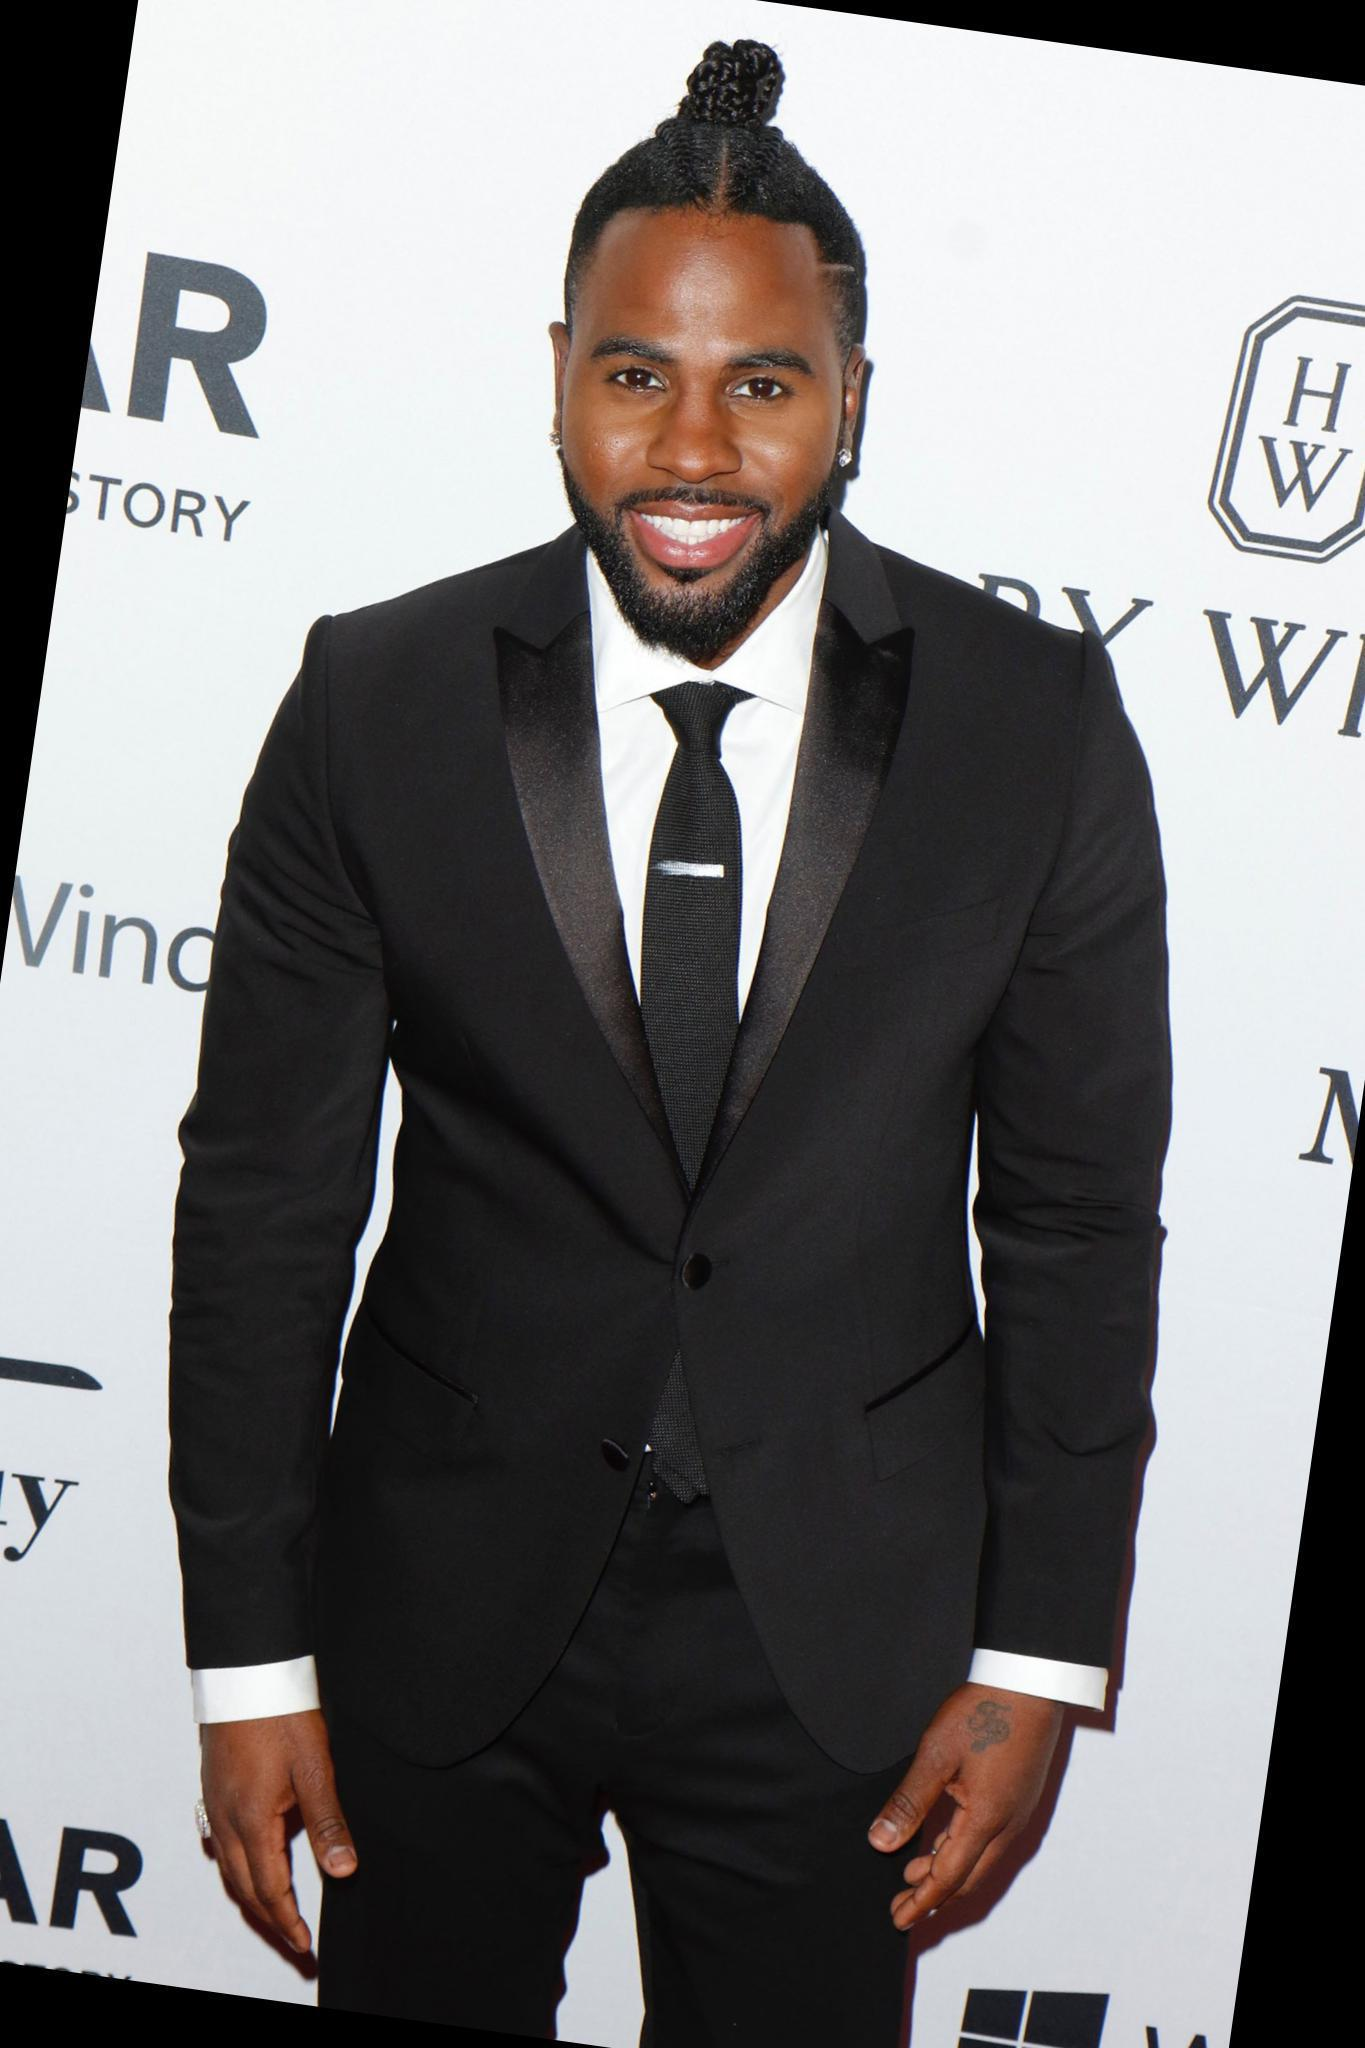Sober: (577, 221, 842, 614)
